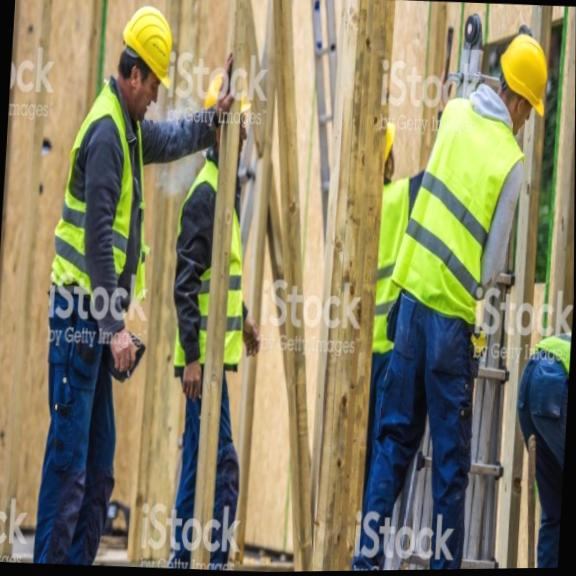safety_vest: (392, 93, 525, 321), (52, 86, 157, 308)
